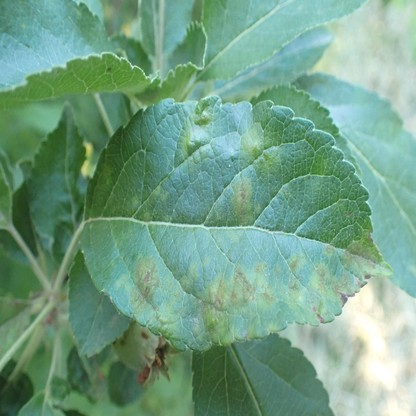scab: (201, 273, 230, 344), (308, 265, 360, 303), (129, 259, 158, 314), (234, 175, 261, 227), (343, 232, 378, 271), (180, 107, 207, 156), (161, 277, 182, 333), (251, 264, 276, 304), (231, 267, 251, 307), (259, 150, 279, 173), (242, 132, 260, 156), (287, 279, 300, 308), (290, 252, 303, 272), (187, 262, 198, 282), (180, 274, 189, 292), (115, 274, 126, 288), (268, 321, 278, 335), (132, 195, 139, 208), (153, 184, 160, 197), (325, 246, 333, 255)
